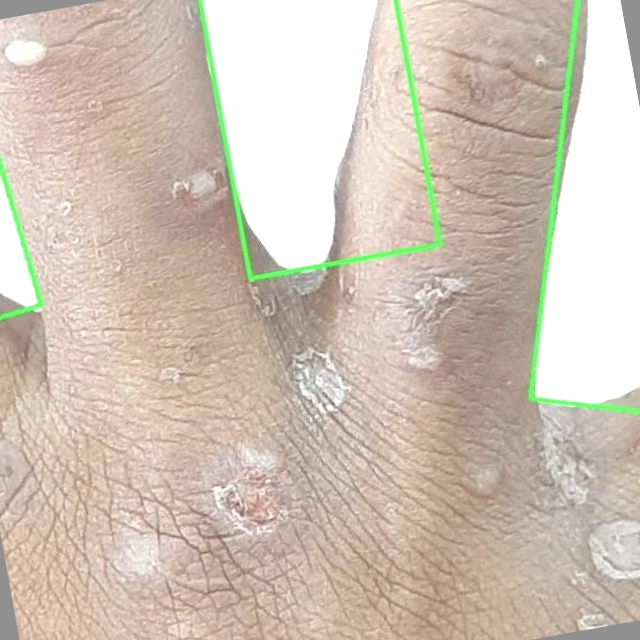Scabies: (475, 0, 639, 435), (200, 0, 440, 278)
